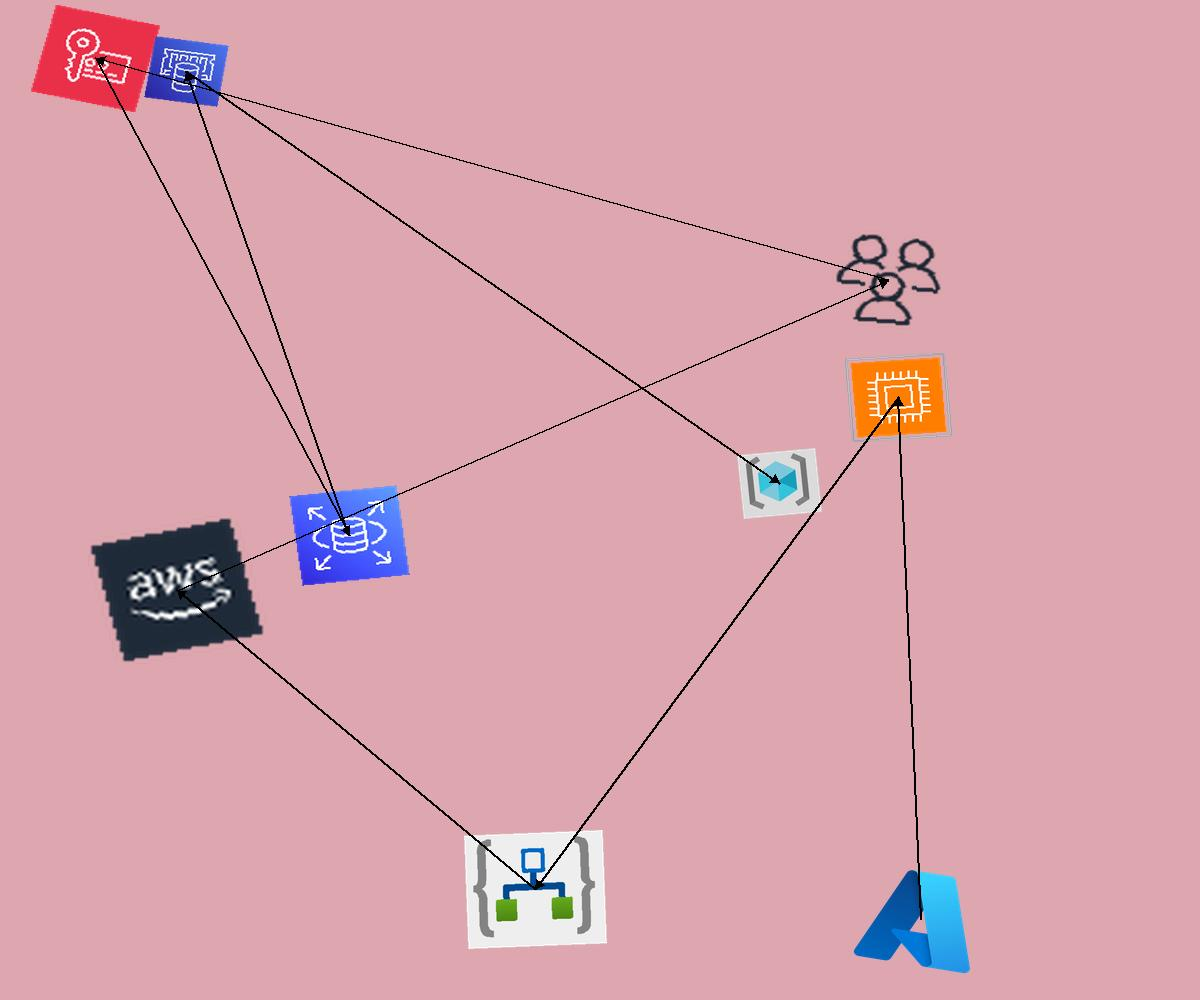AWS-Category_Compute: (844, 352, 953, 443)
AWS-Cloud-logo: (88, 516, 266, 664)
AWS-ElastiCache: (144, 36, 229, 107)
AWS-Key-Management-Service: (30, 4, 161, 113)
AWS-RDS: (289, 485, 410, 586)
AWS-Res_Users: (825, 227, 952, 333)
Azure_integration-204-Logic-Apps: (464, 830, 607, 949)
Azure_resource_group: (737, 448, 822, 519)
Azure_services: (846, 856, 997, 982)
